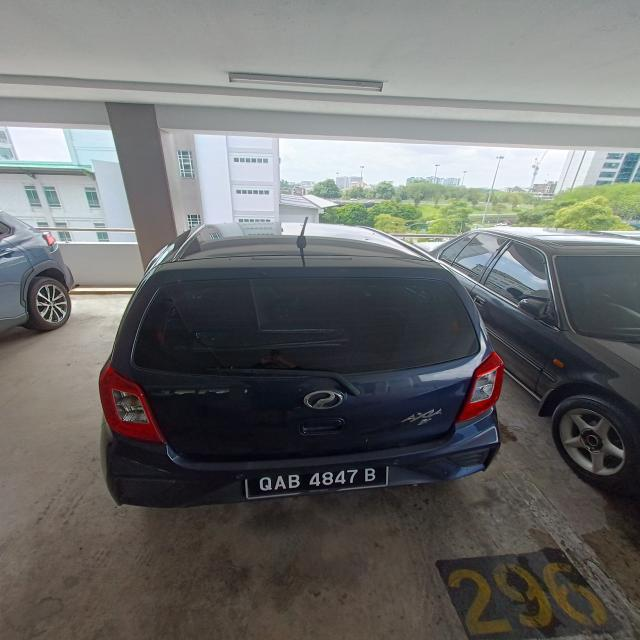PeroduaAxia: (98, 217, 506, 508)
